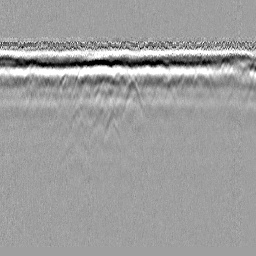cavity: (119, 78, 145, 117)
